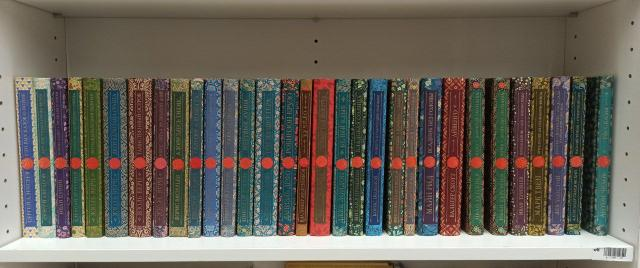book-s-spine: (254, 79, 280, 236), (103, 79, 128, 237), (441, 78, 466, 235), (15, 77, 39, 237), (128, 78, 152, 237), (418, 78, 442, 236), (547, 77, 571, 235), (310, 79, 334, 236), (33, 78, 56, 238), (592, 76, 615, 235), (365, 78, 388, 236), (529, 77, 551, 235), (278, 79, 299, 235), (51, 78, 71, 238), (567, 76, 587, 235), (169, 79, 189, 236), (348, 79, 368, 235), (83, 78, 102, 237), (203, 78, 222, 237), (512, 77, 531, 236), (388, 79, 407, 236), (152, 78, 170, 237), (221, 78, 239, 237), (492, 77, 510, 235), (237, 79, 255, 236), (333, 79, 351, 236), (68, 77, 85, 237), (296, 79, 313, 236), (468, 78, 485, 235), (188, 78, 204, 237), (404, 79, 420, 236)
